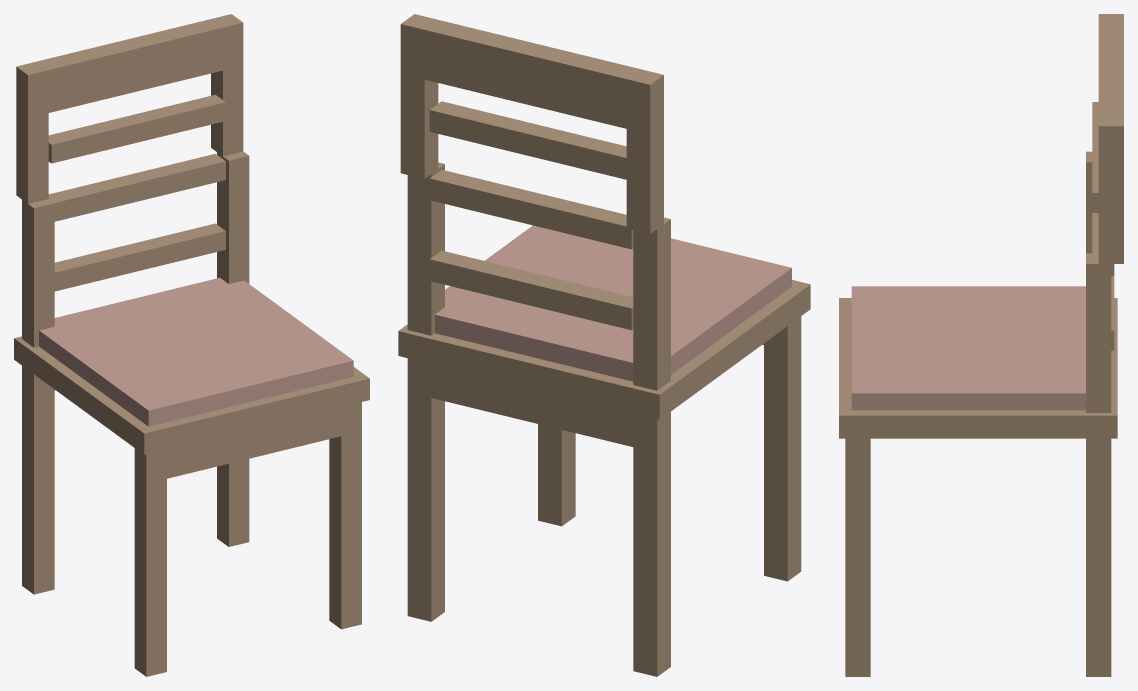
Rendered from DiningChair.fbx.
The picture shows the model from 3 angles, left to right: view 1: azimuth 30°, elevation 25°; view 2: azimuth 150°, elevation 25°; view 3: azimuth 270°, elevation 25°; orthographic projection. The views are drawn at different scales.
Parts seen in each view (by area): view 1: DiningChair; view 2: DiningChair; view 3: DiningChair.
Part boxes in pixels (left/top/right/bottom): DiningChair: left=14, top=14, right=369, bottom=676; DiningChair: left=398, top=14, right=810, bottom=676; DiningChair: left=839, top=14, right=1123, bottom=676.
Bounding box in the file's own units: 0.44 × 0.96 × 0.45.
